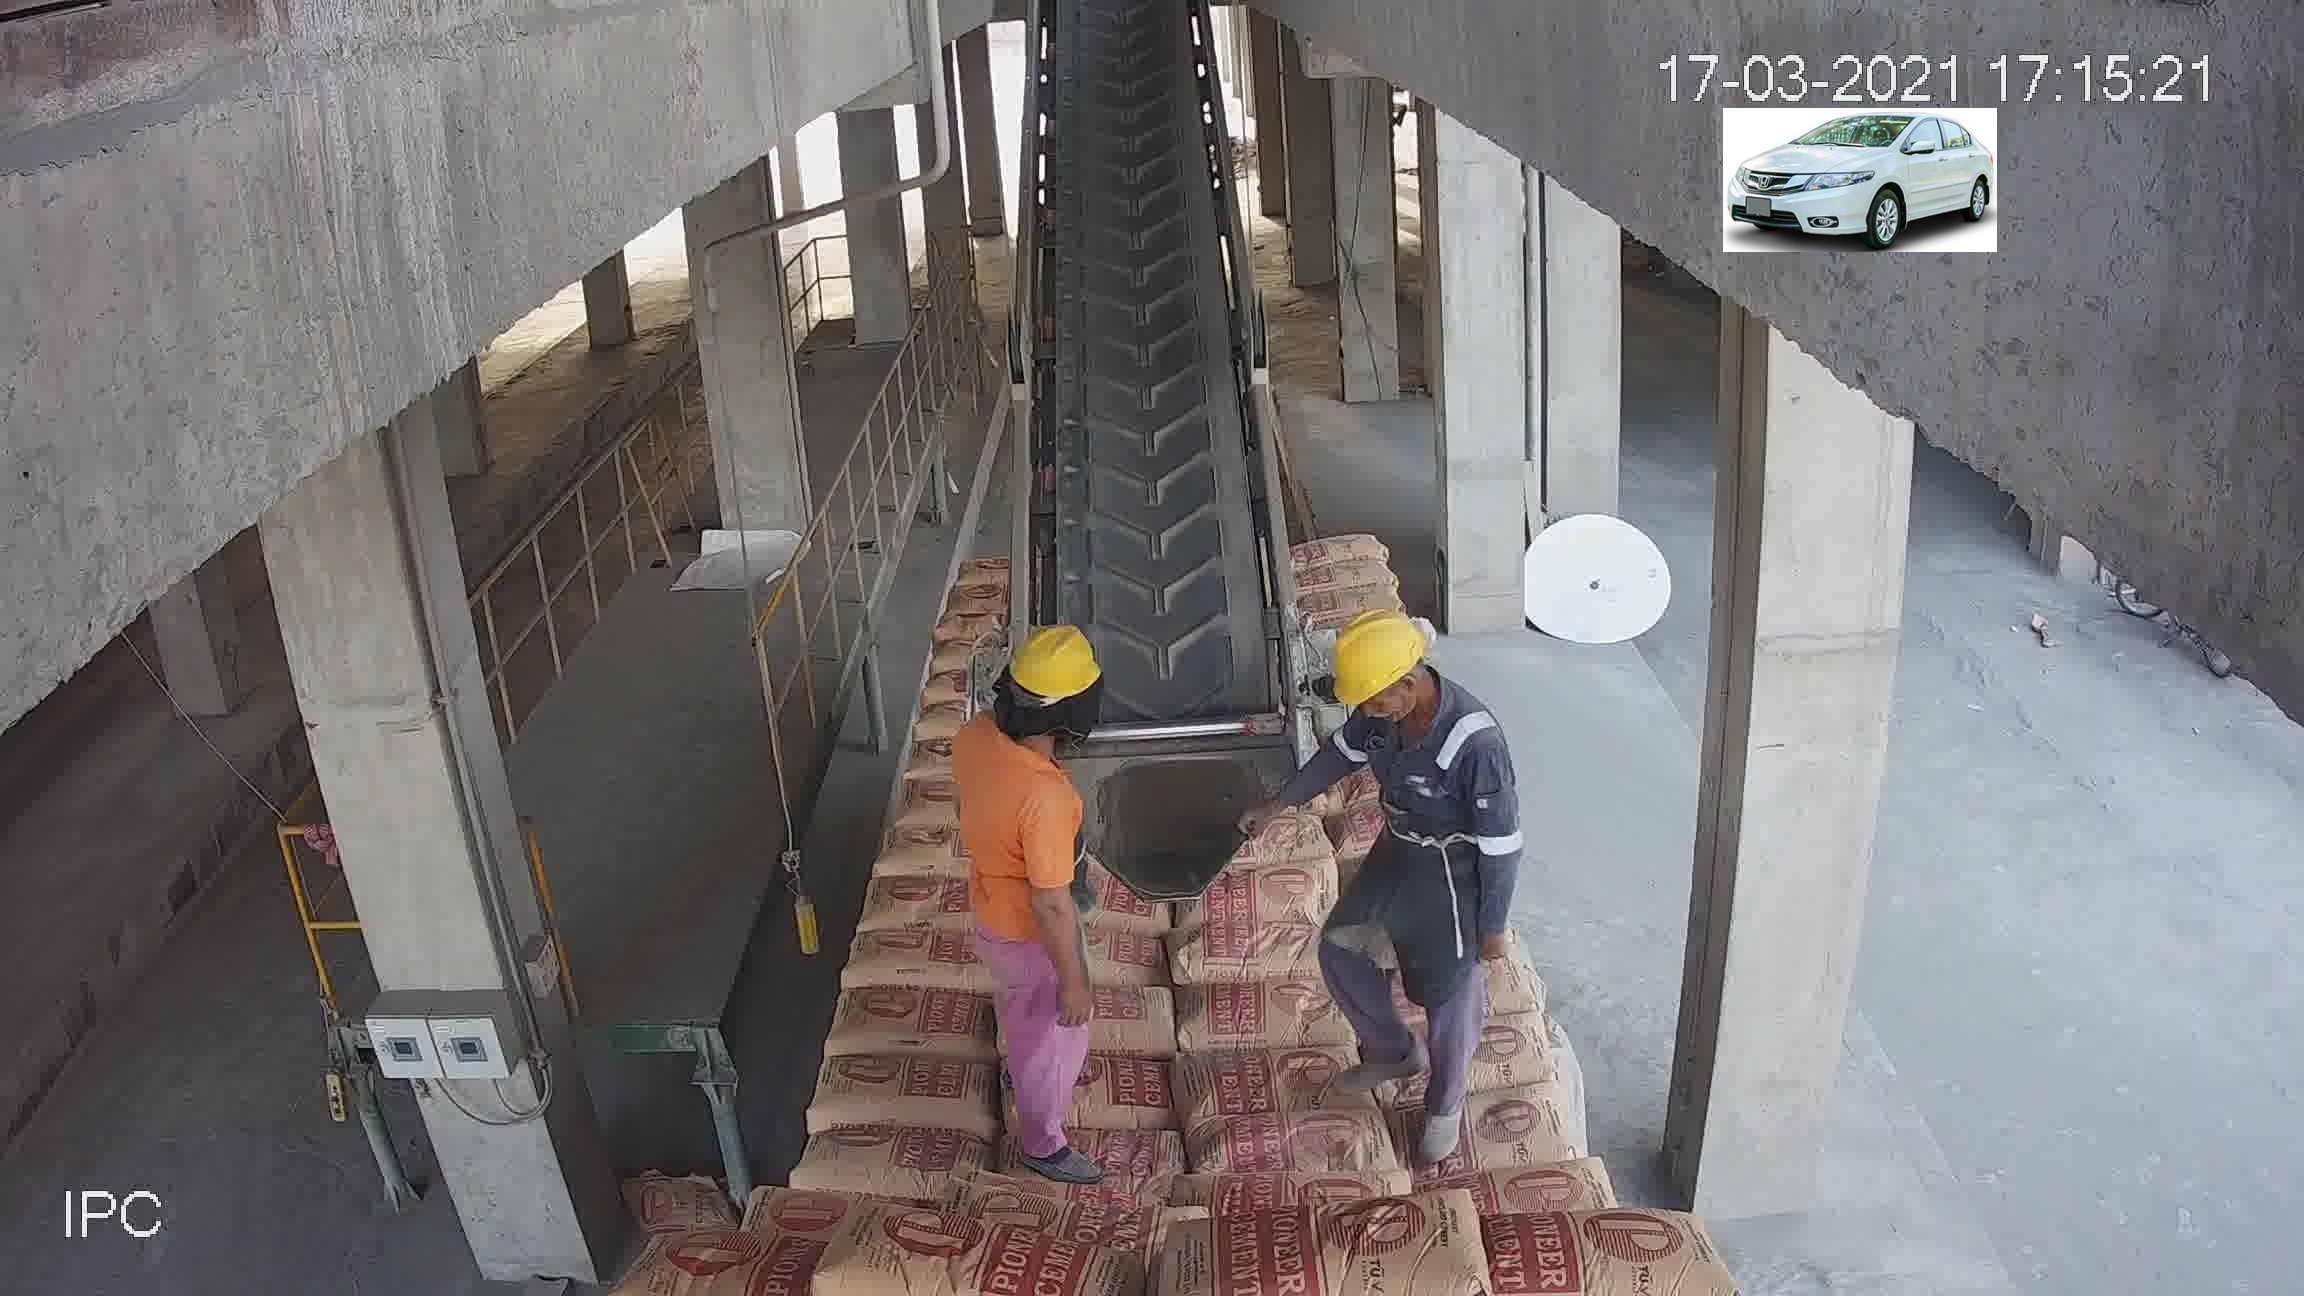bag_h: (1204, 1204, 1518, 1294), (820, 1225, 1105, 1294), (1385, 1079, 1579, 1180), (1446, 1207, 1695, 1287), (794, 1054, 1005, 1138), (1196, 1109, 1399, 1192), (1184, 1051, 1361, 1136), (1166, 978, 1359, 1054), (828, 976, 1011, 1055), (1030, 986, 1217, 1062), (1163, 916, 1340, 992), (1041, 1060, 1214, 1138), (644, 1230, 843, 1296), (1035, 1119, 1226, 1185), (791, 1127, 994, 1185), (1438, 1163, 1609, 1225), (845, 927, 983, 994)
belt: (1002, 0, 1279, 782)
